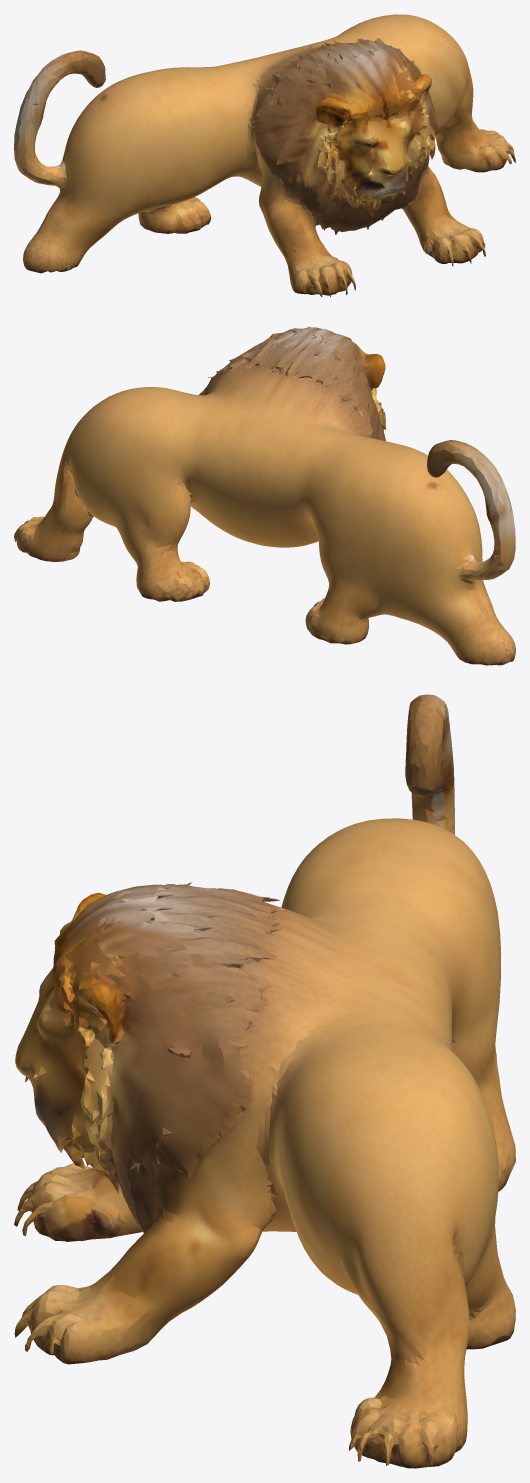
File: arena_lion.glb
The picture shows the model from 3 angles, top to bottom: view 1: azimuth 30°, elevation 25°; view 2: azimuth 150°, elevation 25°; view 3: azimuth 270°, elevation 25°; orthographic projection. The views are drawn at different scales.
Visible parts, largest first — view 1: arena_lion; view 2: arena_lion; view 3: arena_lion.
Boxes of the visible parts, x1,y1,x2,y2 form: arena_lion: (14, 14, 515, 296); arena_lion: (14, 326, 515, 665); arena_lion: (14, 694, 515, 1468).
Bounding box in the file's own units: 1.89 × 0.7569 × 0.9086.
1 material, 1 textured.
